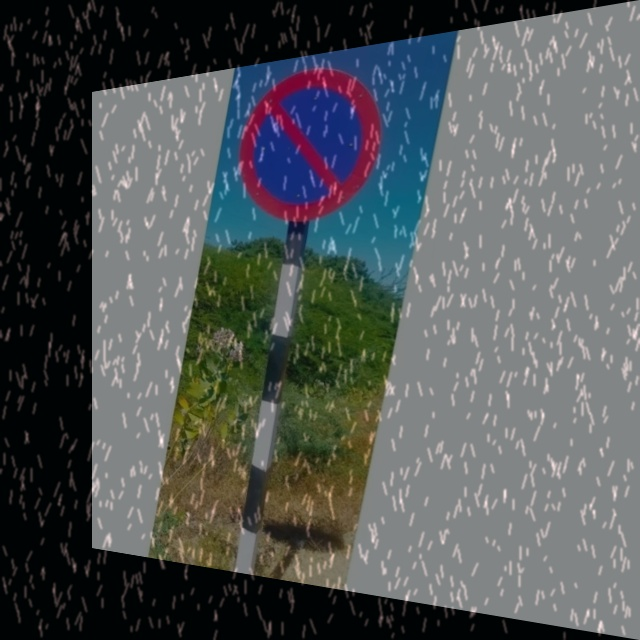No_Stopping_or_Standing: (234, 46, 386, 234)
